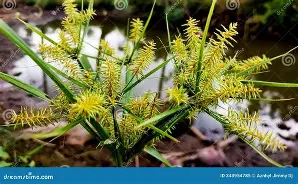weed: (0, 27, 264, 150)
